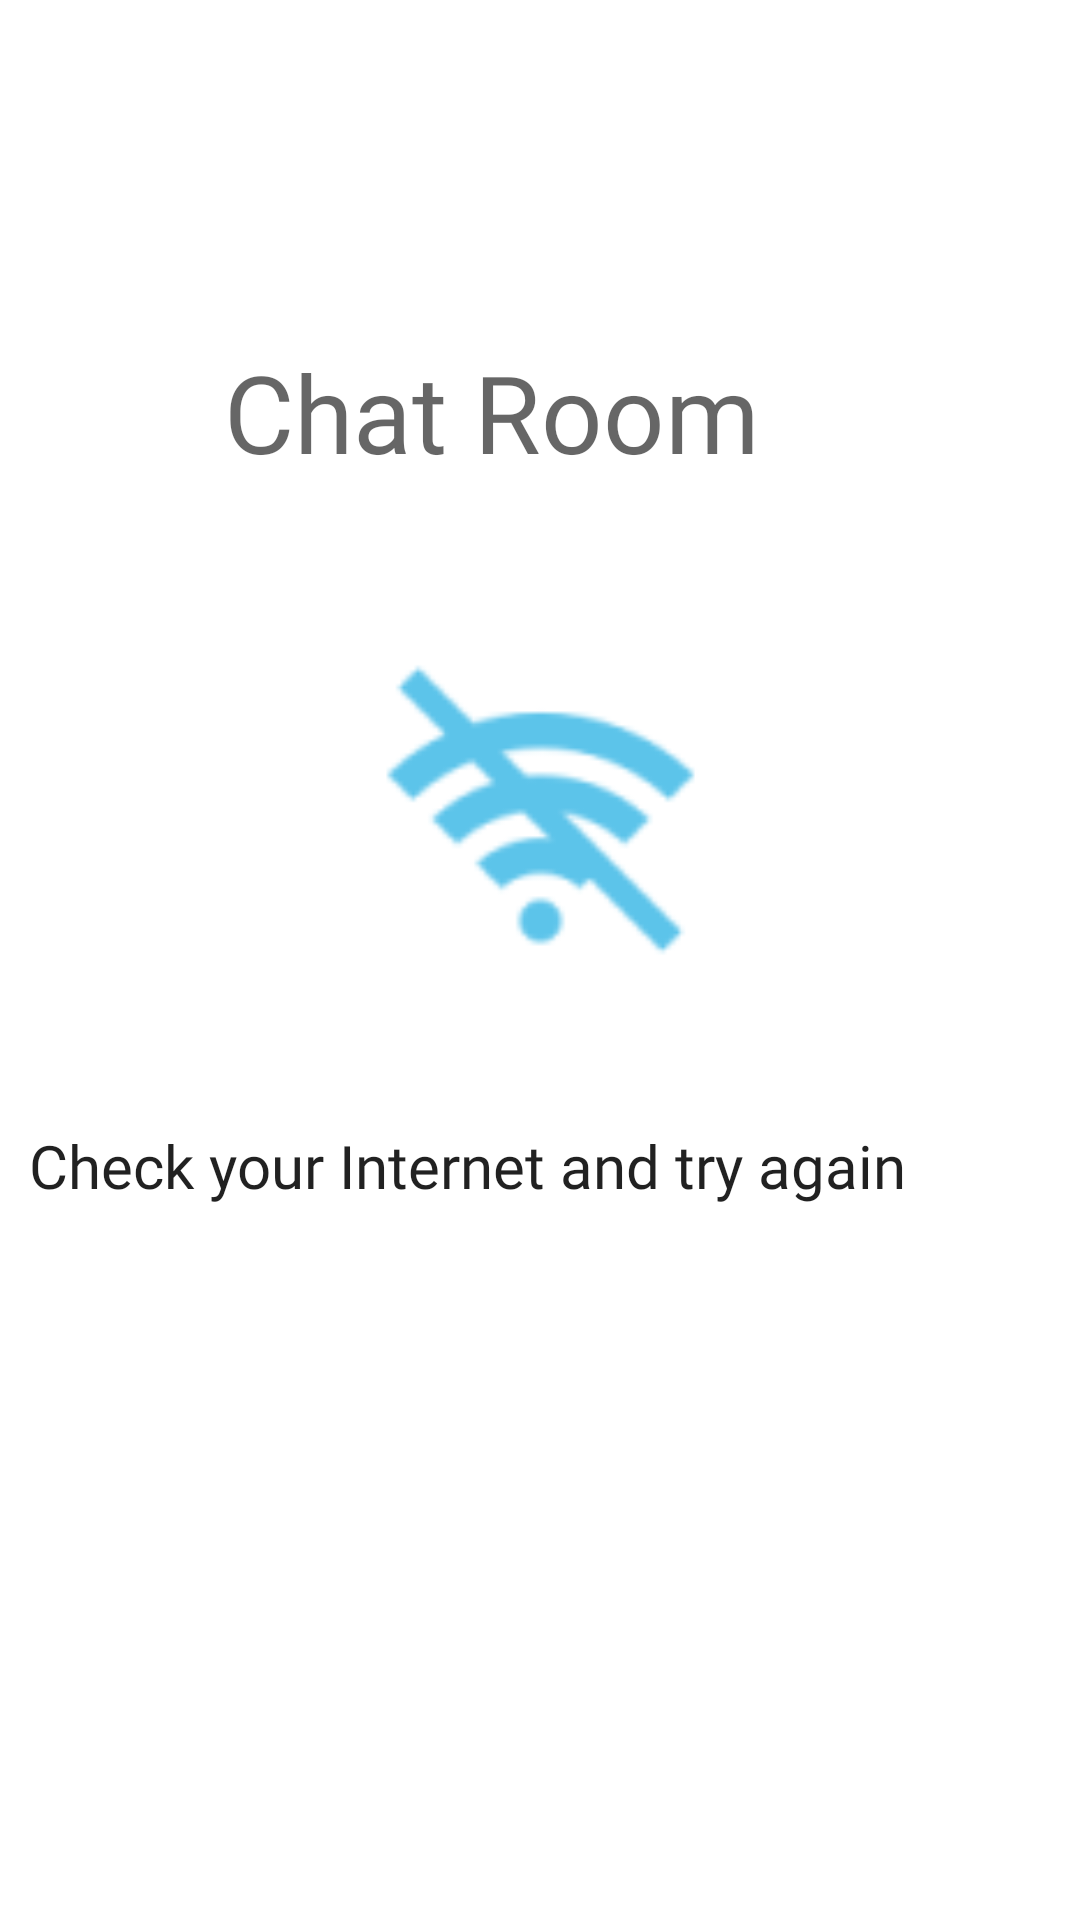

Where icons sit on this 1080px x 1920px app screen, as box(x1, y1, x2, y2):
no internet icon: box(387, 666, 695, 952)
